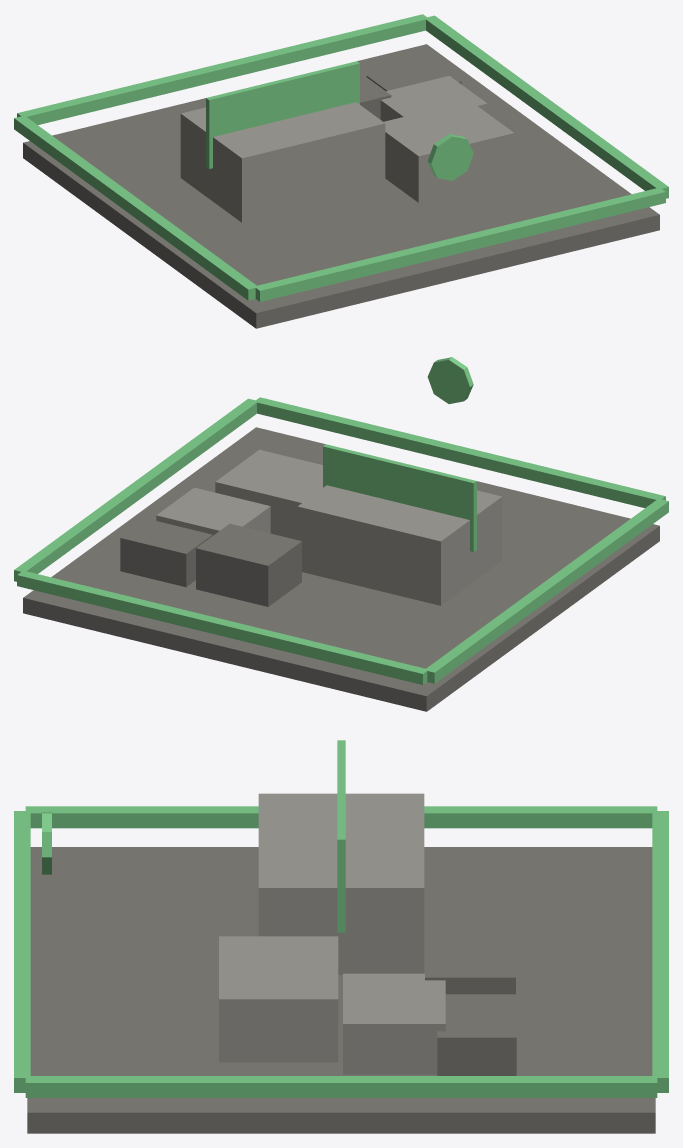
Rendered from t3_stonecutter.glb.
The picture shows the model from 3 angles, top to bottom: view 1: azimuth 30°, elevation 25°; view 2: azimuth 150°, elevation 25°; view 3: azimuth 270°, elevation 25°; orthographic projection. The views are drawn at different scales.
Parts seen in each view (by area): view 1: FootprintBase, WorkBlock, InputStonePileA, TierFrontTrim, TierBackTrim, CutLine, TierLeftTrim, TierRightTrim, InputStonePileB, TierEmblem, OutputBlockB, OutputBlockA; view 2: FootprintBase, WorkBlock, TierBackTrim, TierFrontTrim, OutputBlockA, CutLine, TierLeftTrim, InputStonePileA, TierRightTrim, OutputBlockB, InputStonePileB, TierEmblem; view 3: FootprintBase, WorkBlock, InputStonePileA, TierRightTrim, TierLeftTrim, InputStonePileB, OutputBlockB, OutputBlockA, TierBackTrim, TierFrontTrim, CutLine, TierEmblem.
Part boxes in pixels (<box>): FootprintBase: <box>23,44,659,328</box>; WorkBlock: <box>180,102,385,222</box>; InputStonePileA: <box>384,101,514,202</box>; TierFrontTrim: <box>254,188,665,301</box>; TierBackTrim: <box>17,14,428,124</box>; CutLine: <box>206,61,359,168</box>; TierLeftTrim: <box>14,115,256,300</box>; TierRightTrim: <box>425,15,668,198</box>; InputStonePileB: <box>380,75,487,121</box>; TierEmblem: <box>427,134,473,180</box>; OutputBlockB: <box>366,59,461,90</box>; OutputBlockA: <box>360,72,391,119</box>; FootprintBase: <box>23,427,659,711</box>; WorkBlock: <box>297,485,502,605</box>; TierBackTrim: <box>17,570,428,684</box>; TierFrontTrim: <box>254,397,665,507</box>; OutputBlockA: <box>196,523,301,606</box>; CutLine: <box>323,444,476,551</box>; TierLeftTrim: <box>426,499,668,683</box>; InputStonePileA: <box>215,449,322,539</box>; TierRightTrim: <box>14,398,257,581</box>; OutputBlockB: <box>120,516,212,587</box>; InputStonePileB: <box>156,487,270,535</box>; TierEmblem: <box>427,357,473,403</box>; FootprintBase: <box>27,847,655,1133</box>; WorkBlock: <box>258,793,424,974</box>; InputStonePileA: <box>219,936,338,1062</box>; TierRightTrim: <box>25,1076,657,1097</box>; TierLeftTrim: <box>25,806,657,828</box>; InputStonePileB: <box>343,973,445,1074</box>; OutputBlockB: <box>437,994,516,1075</box>; OutputBlockA: <box>425,930,515,994</box>; TierBackTrim: <box>652,811,668,1092</box>; TierFrontTrim: <box>14,811,30,1092</box>; CutLine: <box>337,740,345,932</box>; TierEmblem: <box>42,812,51,874</box>.
Size of the model in its own units: 3.96 by 1.25 by 3.96.
